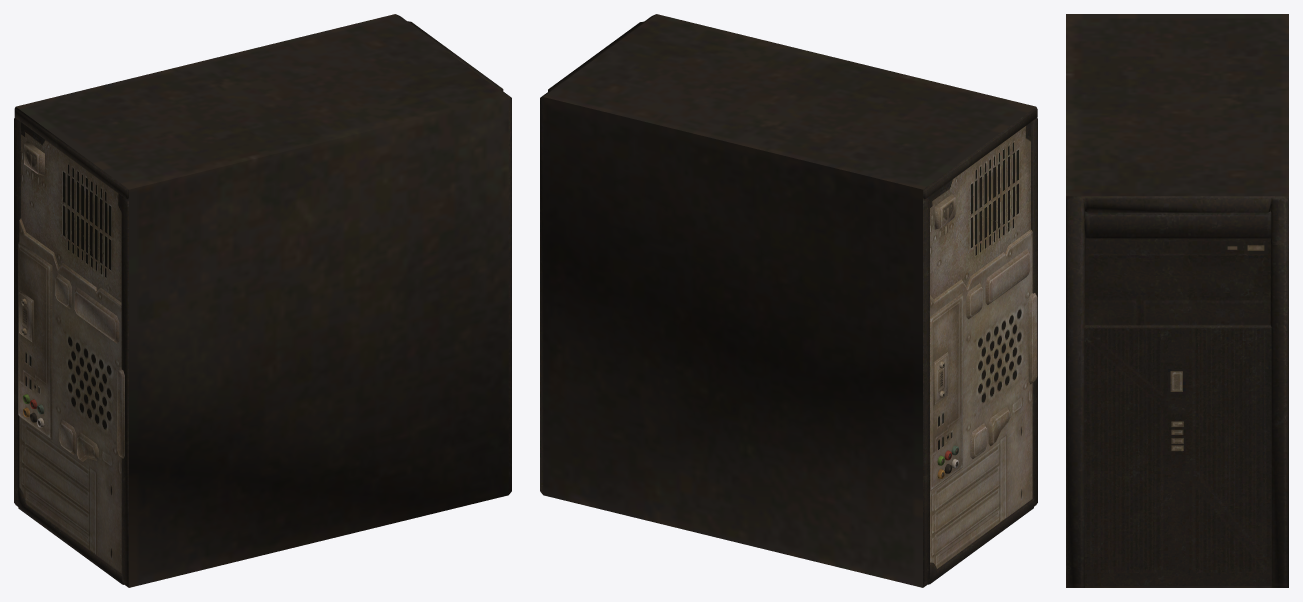
Rendered from computer_chassi_mossy.dae.
3 renders of one model, left to right at view 1: azimuth 30°, elevation 25°; view 2: azimuth 150°, elevation 25°; view 3: azimuth 270°, elevation 25°, orthographic.
Visible parts, largest first — view 1: computer_chassi; view 2: computer_chassi; view 3: computer_chassi.
Boxes of the visible parts, bbox=[...] form: computer_chassi: bbox=[14, 14, 511, 587]; computer_chassi: bbox=[540, 14, 1037, 587]; computer_chassi: bbox=[1066, 14, 1288, 587].
Size of the model in its own units: 41.62 by 40.42 by 20.84.
